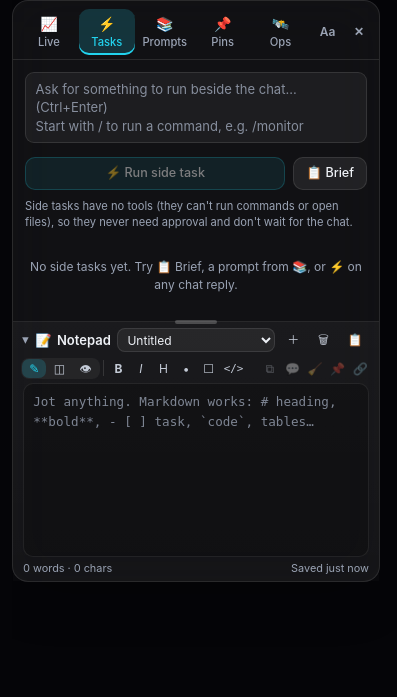
Test case: WorkspaceDock › runs a slash command through process_command
The image size is (397, 697).
Replace the text in the text box with placeholder "beside the chat" with "/monitor" at (196, 108), box [25,72,367,144]
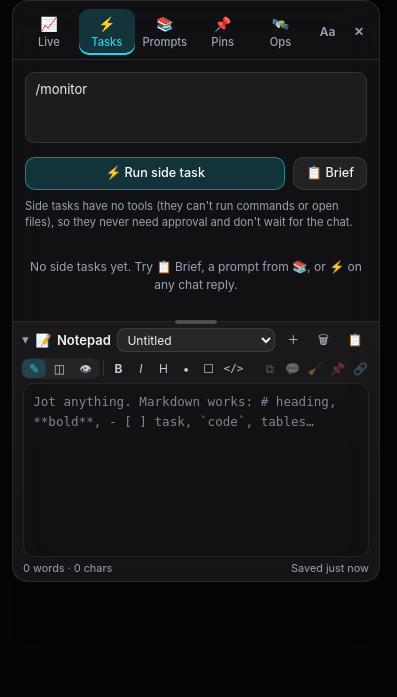
Click the button "⚡ Run side task" at (155, 173), box [25,157,285,190]
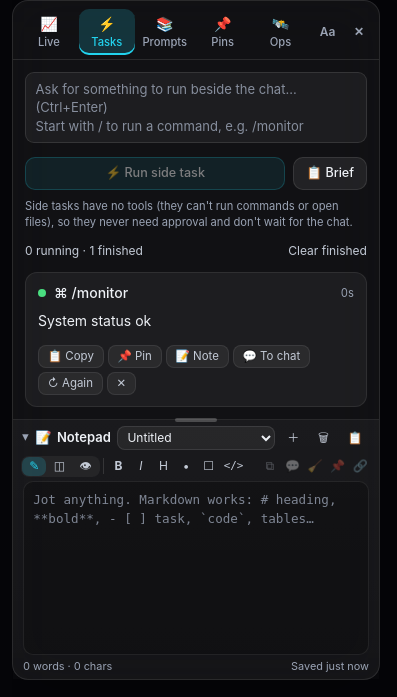
Check: the text "System status ok" is shown, box [38,312,151,329]
